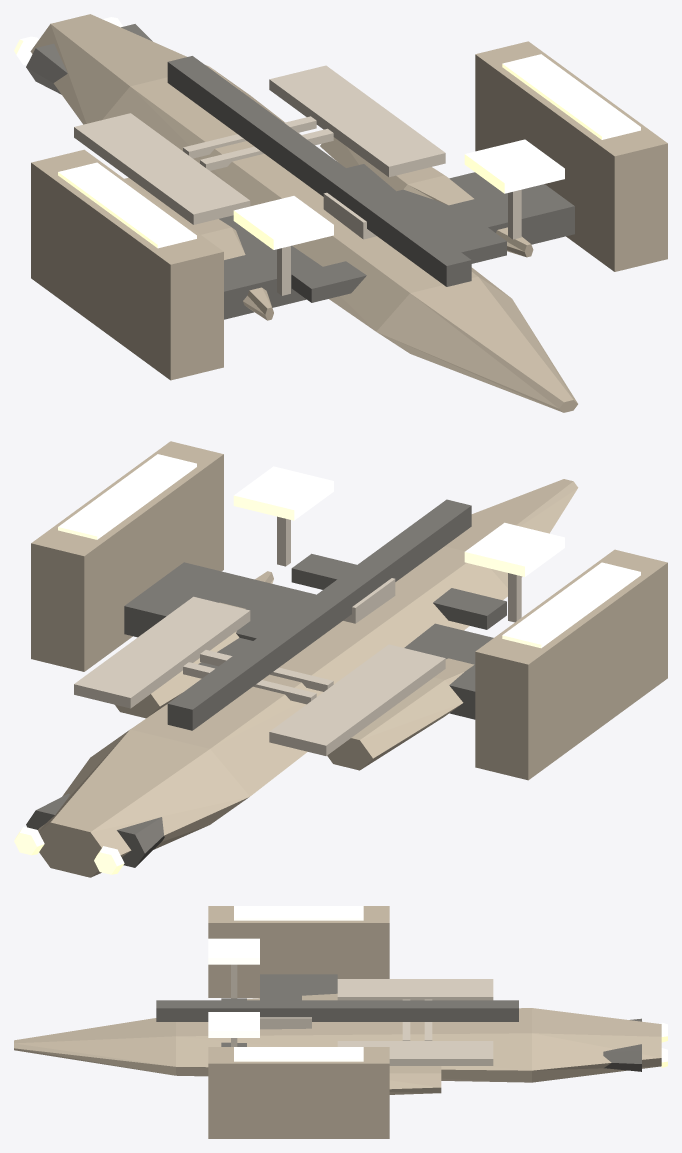
The picture shows the model from 3 angles, top to bottom: view 1: azimuth 30°, elevation 25°; view 2: azimuth 150°, elevation 25°; view 3: azimuth 270°, elevation 25°; orthographic projection. The views are drawn at different scales.
Bounding box in the file's own units: 5.94 × 1.53 × 10.4.
